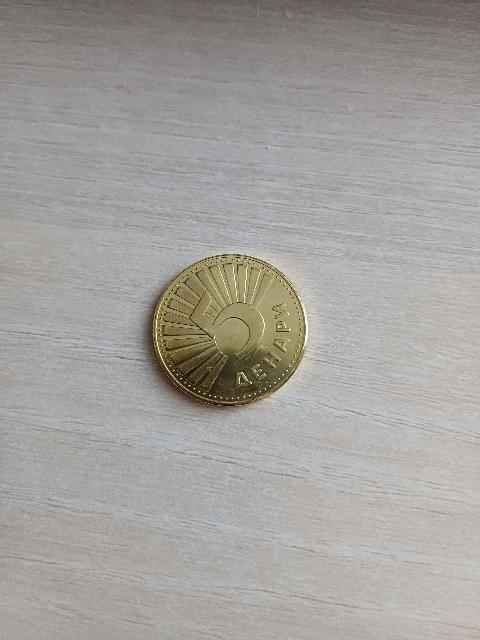5_coin: (149, 239, 314, 416)
